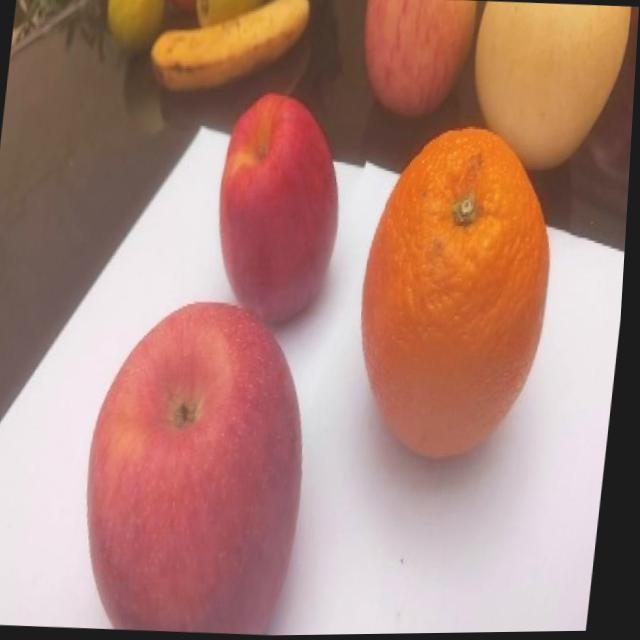Apple: (76, 296, 326, 639), (208, 91, 354, 333), (354, 0, 479, 124)
Orange: (349, 123, 567, 467)
